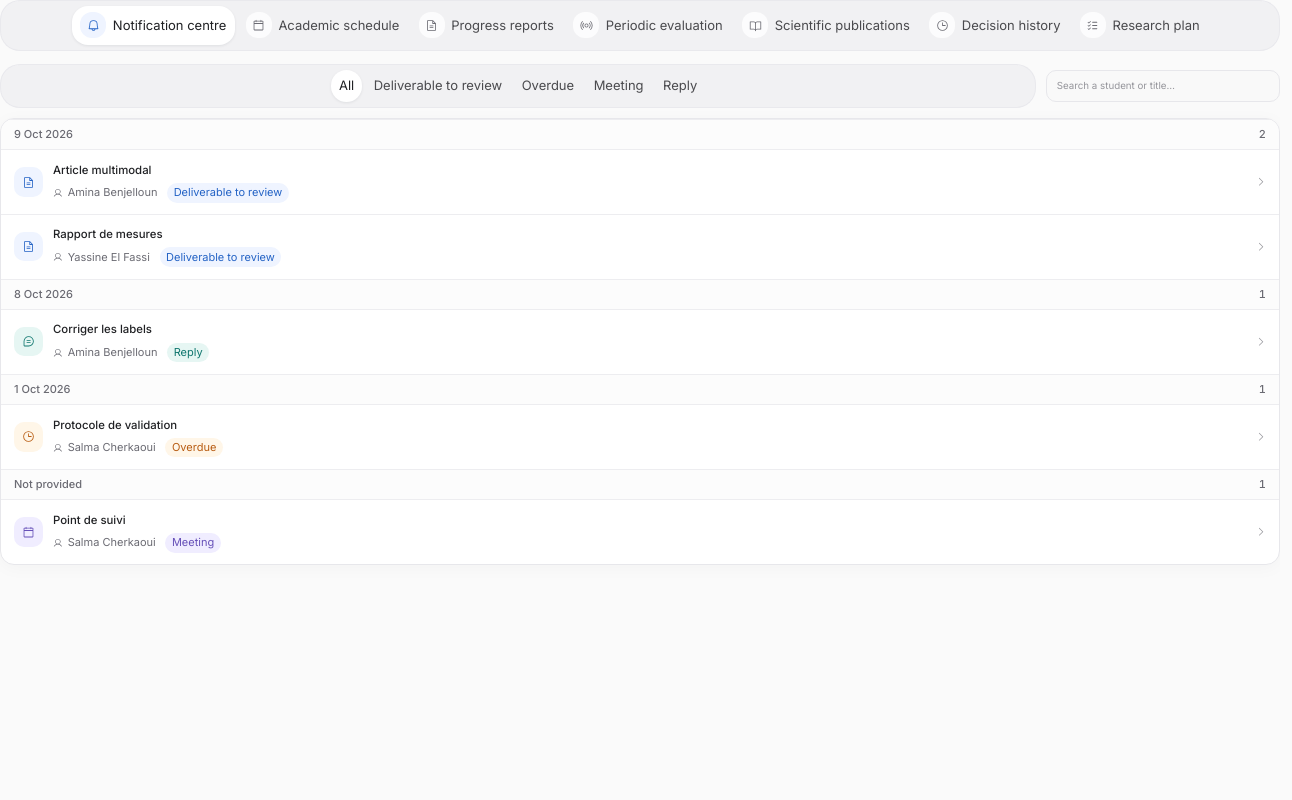
Test: supervisor follow-up › combines notification type with student search and resets an empty result
Click the button "Deliverable to review": (438, 86) [366,70,510,102]
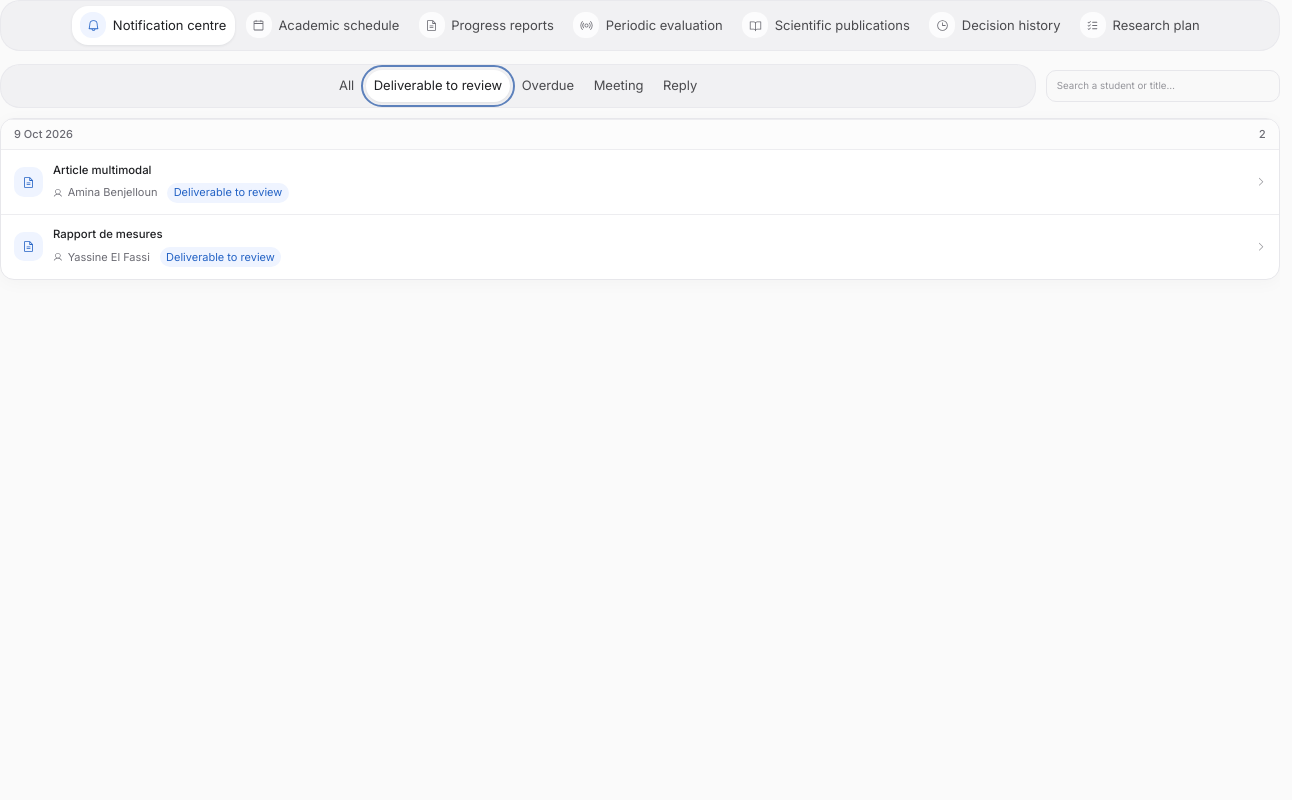
Now the link "Corriger les labels" is gone
In the search field labelled "Search a student or title…": (1163, 86) [1046,70,1280,102], type "Amina"
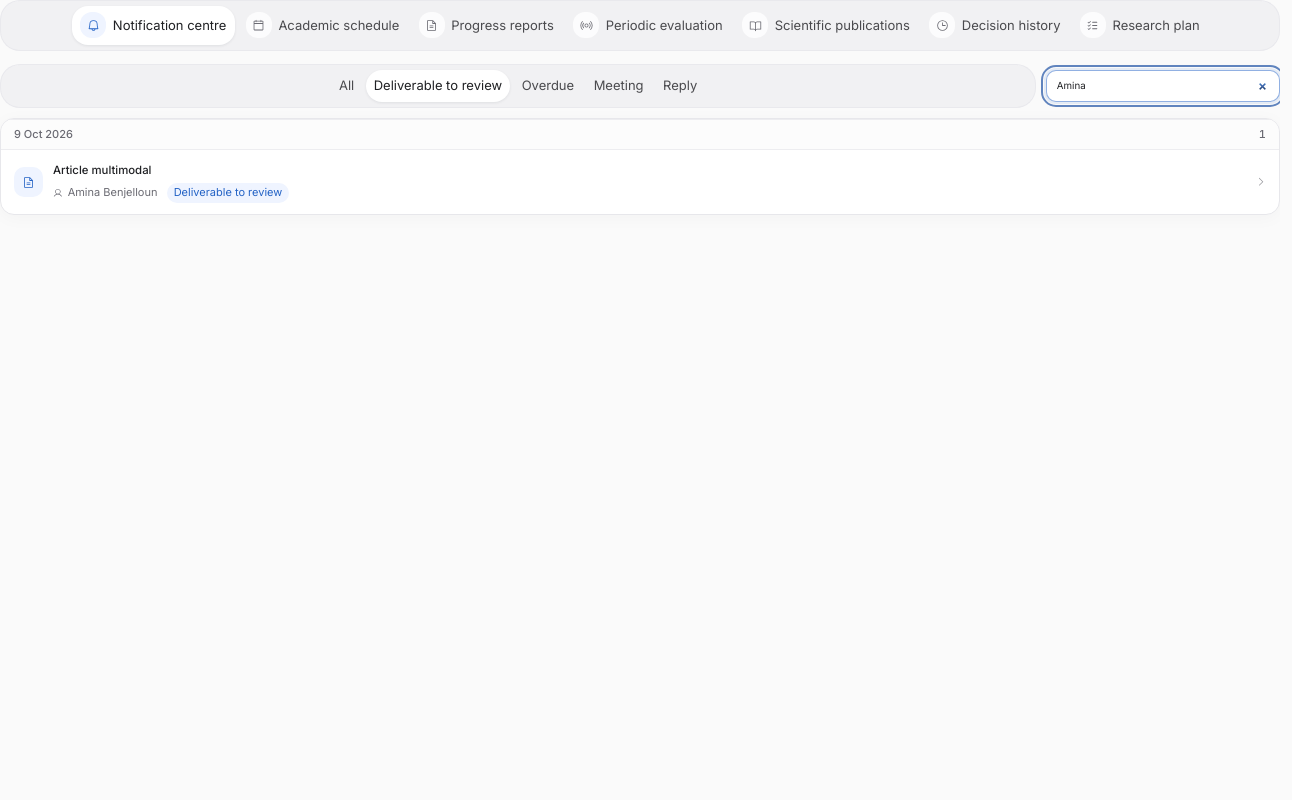
Expected: the link "Article multimodal Amina Benjelloun Deliverable to review" is shown, [1,150,1279,214]
Now the link "Rapport de mesures" is gone
In the search field named "Search a student": (1163, 86) [1046,70,1280,102], type " unknown"
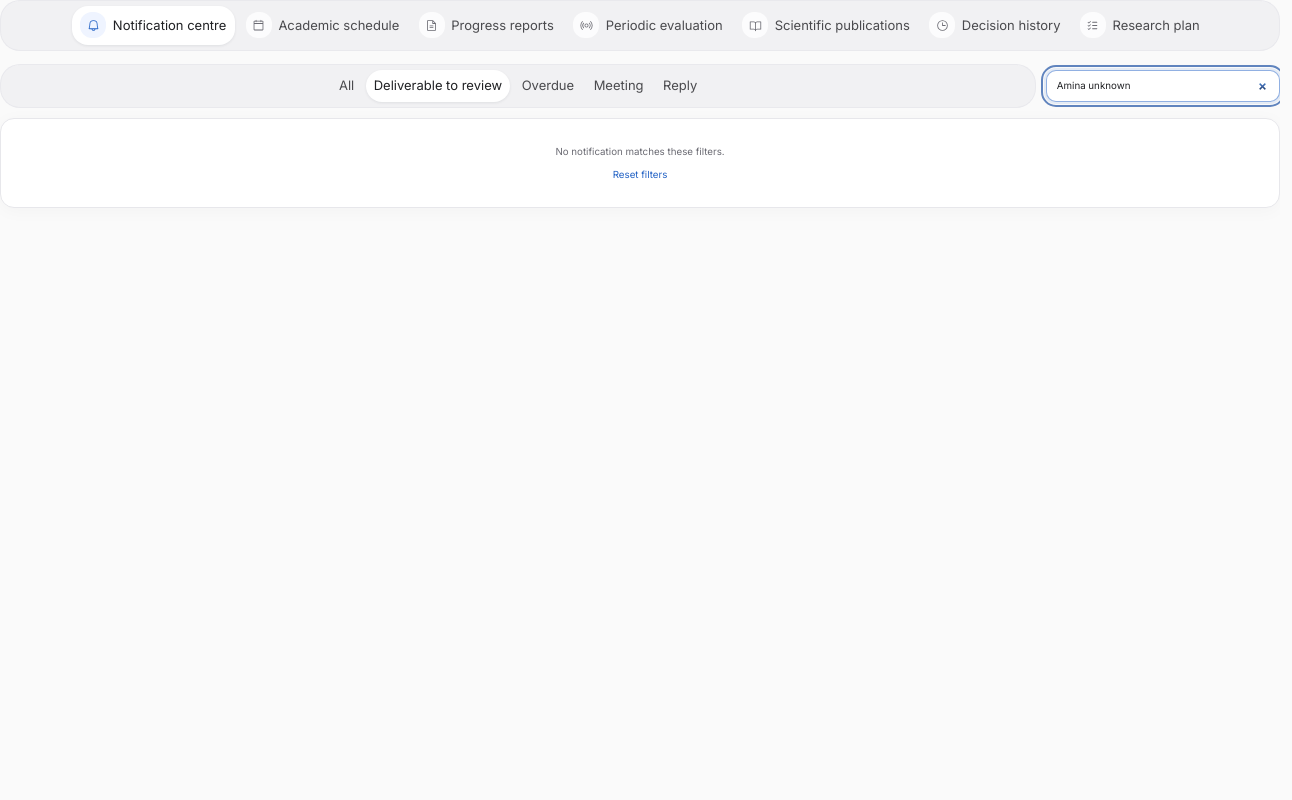
Now the text "No notification matches these filters." is shown, box [555,146,725,157]
Click the button "Reset filters": (640, 174) [613,168,667,180]
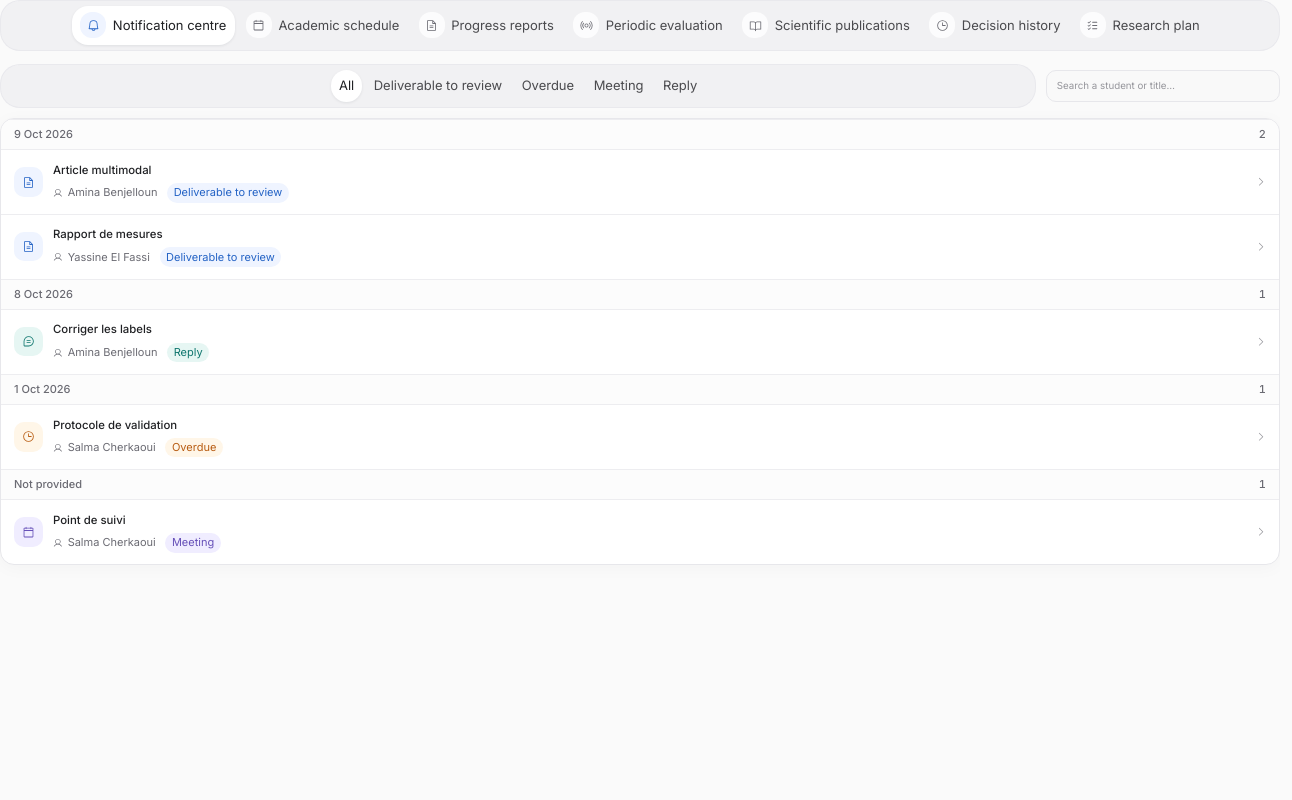
Now the search field labelled "Search a student or title…" is empty, box [1046,70,1280,102]
